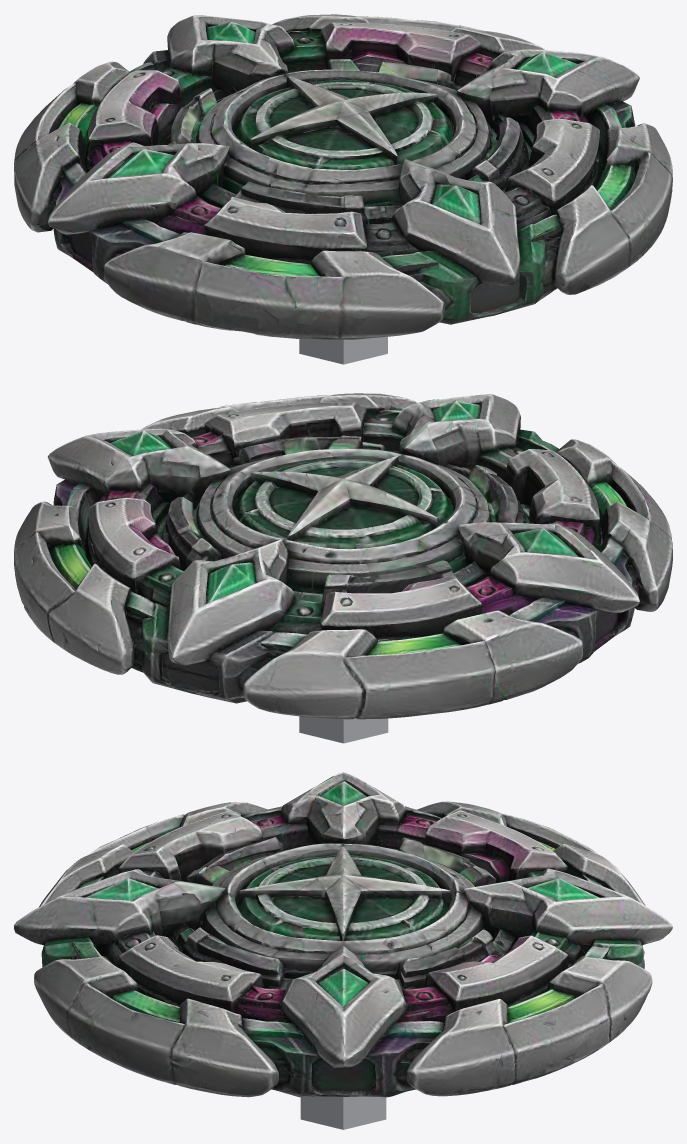
The model's file is ballast.glb.
3 views of the same model, one above another, from view 1: azimuth 30°, elevation 25°; view 2: azimuth 150°, elevation 25°; view 3: azimuth 270°, elevation 25° (orthographic). The views are drawn at different scales.
Visible parts, largest first — view 1: mesh_node; view 2: mesh_node; view 3: mesh_node.
Part boxes in pixels (x1,y1,x2,y2): mesh_node: (14, 14, 672, 364); mesh_node: (14, 393, 672, 743); mesh_node: (14, 772, 672, 1129).
Bounding box in the file's own units: 20 × 5.41 × 19.99.
2 materials, 1 textured.
